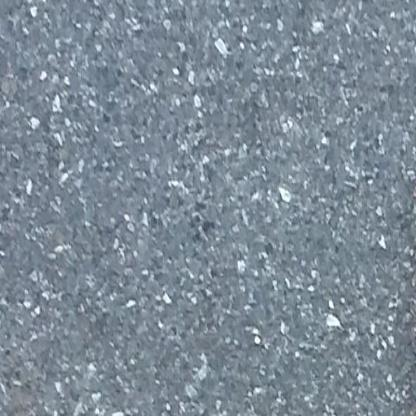Cracks: (409, 155, 416, 365)
